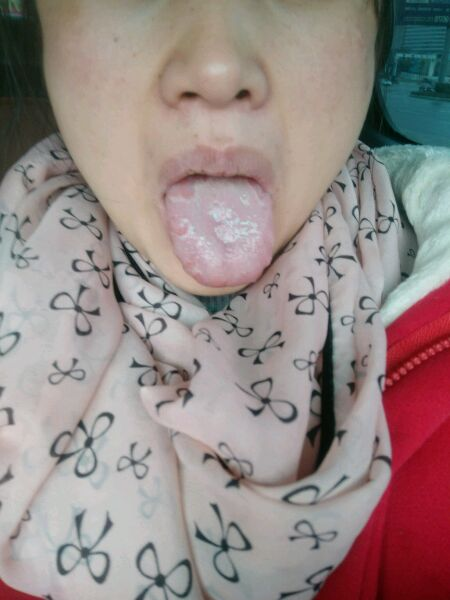baitaishe: (164, 175, 275, 287)
botaishe: (167, 179, 198, 202), (167, 214, 193, 239)
piweiao: (208, 216, 243, 247)
